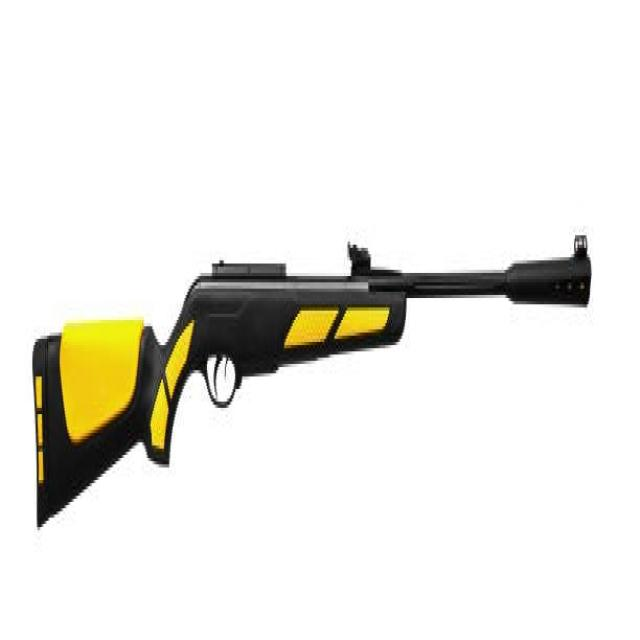rifle: (28, 212, 602, 553)
